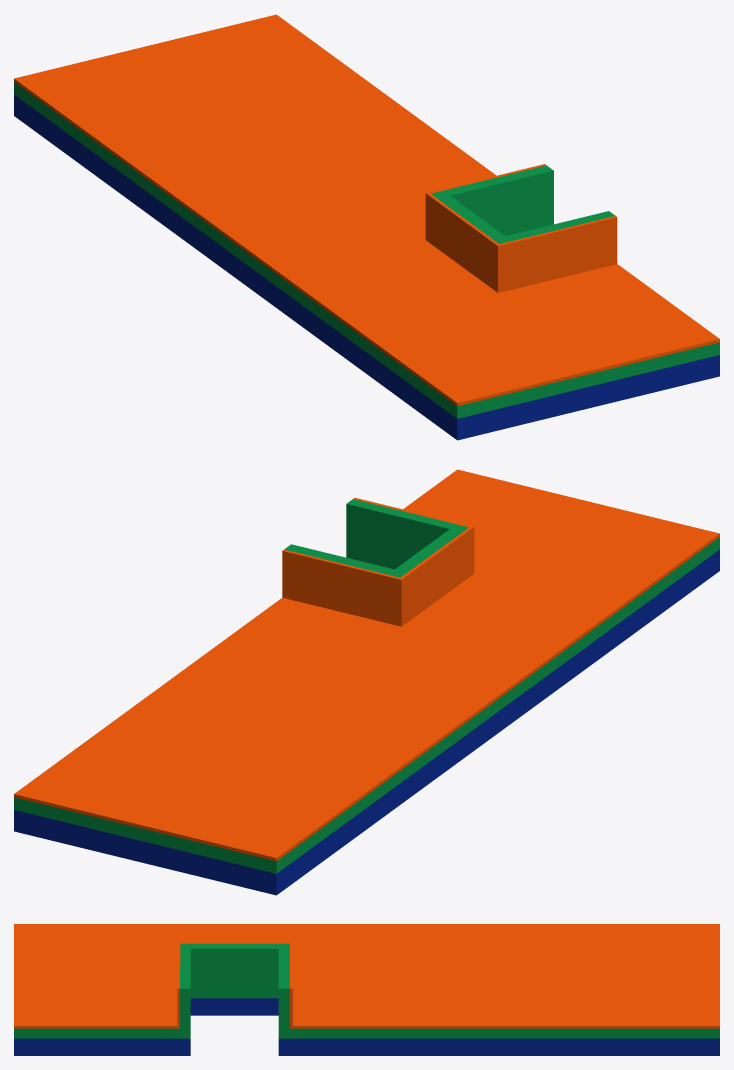
File: _Krisha.fbx
3 views of the same model, one above another, from view 1: azimuth 30°, elevation 25°; view 2: azimuth 150°, elevation 25°; view 3: azimuth 270°, elevation 25° (orthographic). The views are drawn at different scales.
Visible parts, largest first — view 1: _Krisha; view 2: _Krisha; view 3: _Krisha.
Boxes of the visible parts, x1,y1,x2,y2 form: _Krisha: [14, 14, 719, 440]; _Krisha: [14, 469, 719, 895]; _Krisha: [14, 924, 719, 1055].
Bounding box in the file's own units: 2181 × 669 × 6381.
